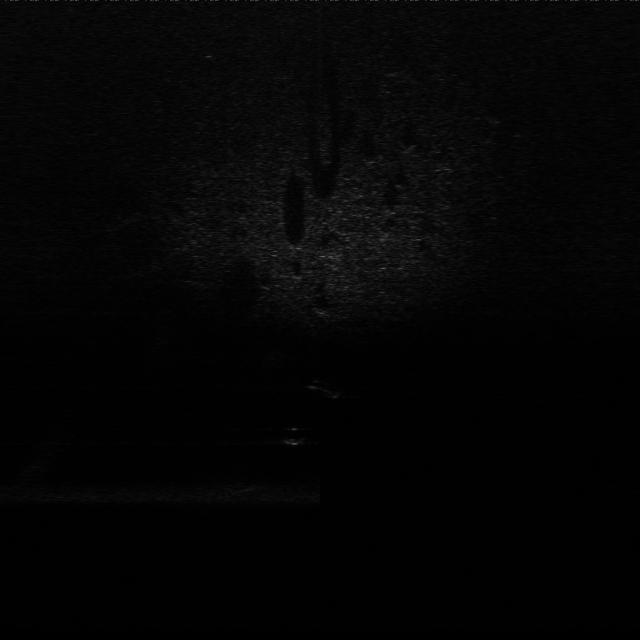ball: (278, 422, 311, 448)
tyre: (300, 378, 350, 406)
